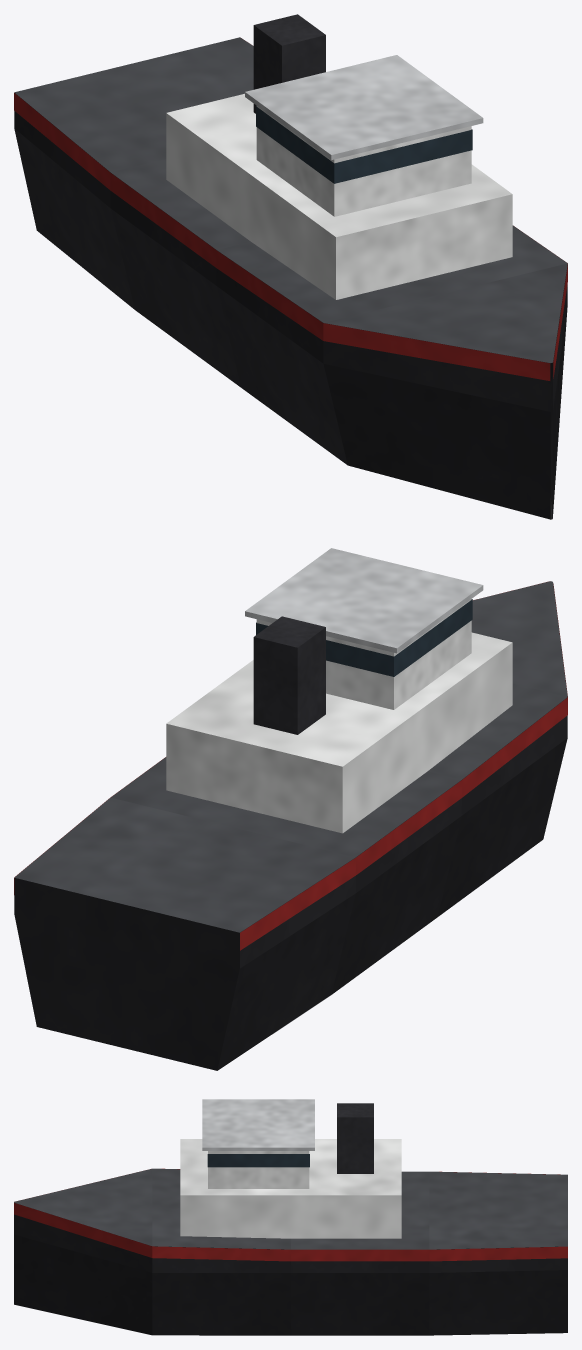
The model's file is SM_MoloItalia_Rimorchiatore_Ostinato_LOD2.fbx.
3 views of the same model, one above another, from view 1: azimuth 30°, elevation 25°; view 2: azimuth 150°, elevation 25°; view 3: azimuth 270°, elevation 25° (orthographic). The views are drawn at different scales.
Visible parts, largest first — view 1: SM_MoloItalia_Rimorchiatore_Ostinato_LOD2; view 2: SM_MoloItalia_Rimorchiatore_Ostinato_LOD2; view 3: SM_MoloItalia_Rimorchiatore_Ostinato_LOD2.
Boxes of the visible parts, bbox=[...] form: SM_MoloItalia_Rimorchiatore_Ostinato_LOD2: bbox=[14, 14, 567, 519]; SM_MoloItalia_Rimorchiatore_Ostinato_LOD2: bbox=[14, 548, 567, 1070]; SM_MoloItalia_Rimorchiatore_Ostinato_LOD2: bbox=[14, 1099, 567, 1335].
Bounding box in the file's own units: 1002 × 3000 × 1160.
1 material, 1 textured.
